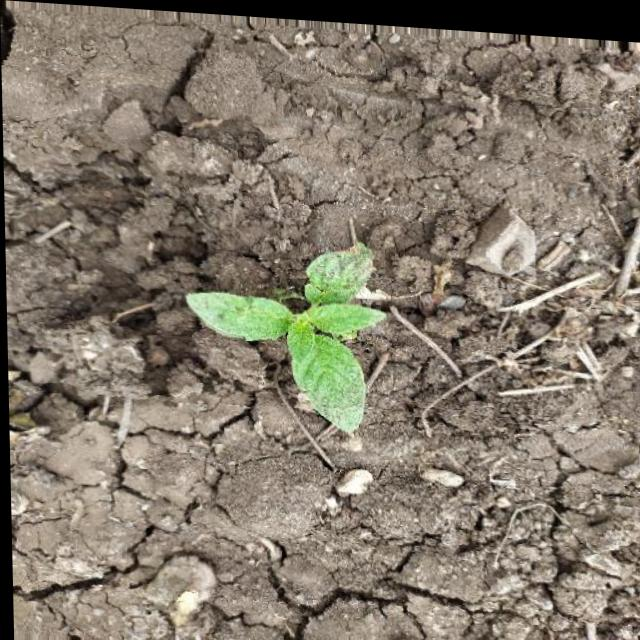crop: (184, 224, 389, 431)
